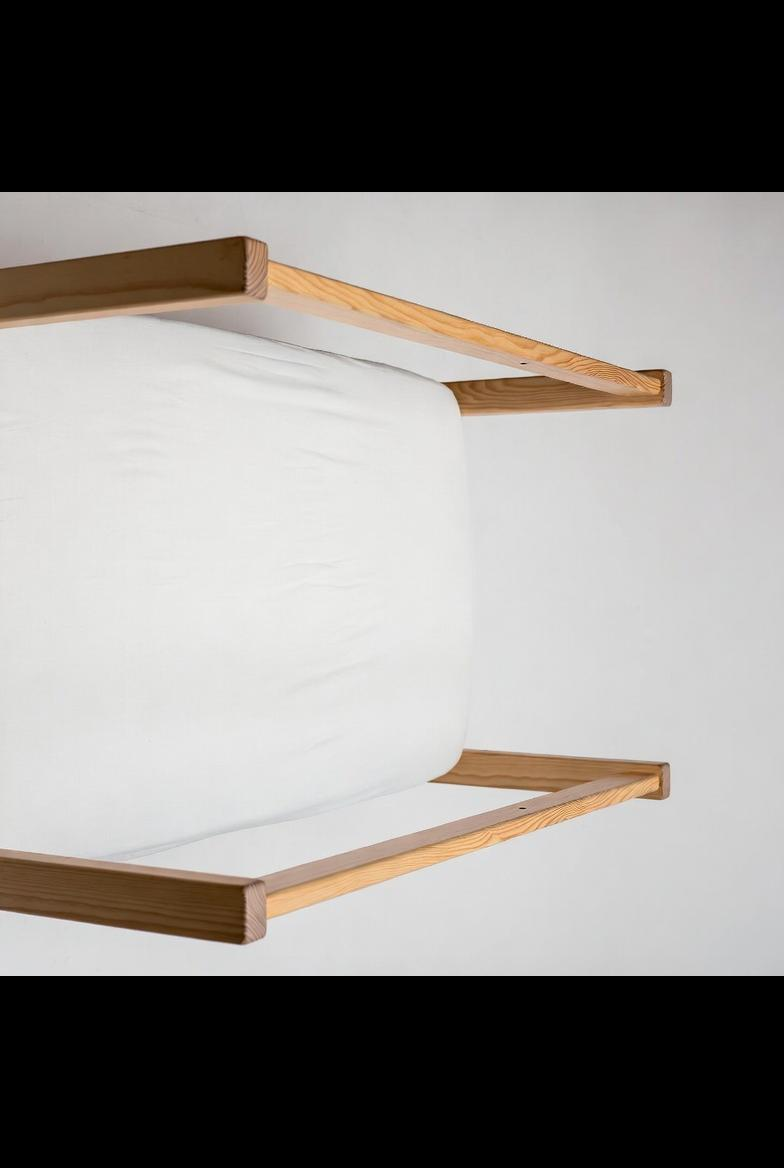crib: (0, 238, 670, 943)
